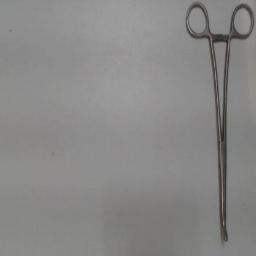Lahey Forceps: (182, 1, 256, 245)
